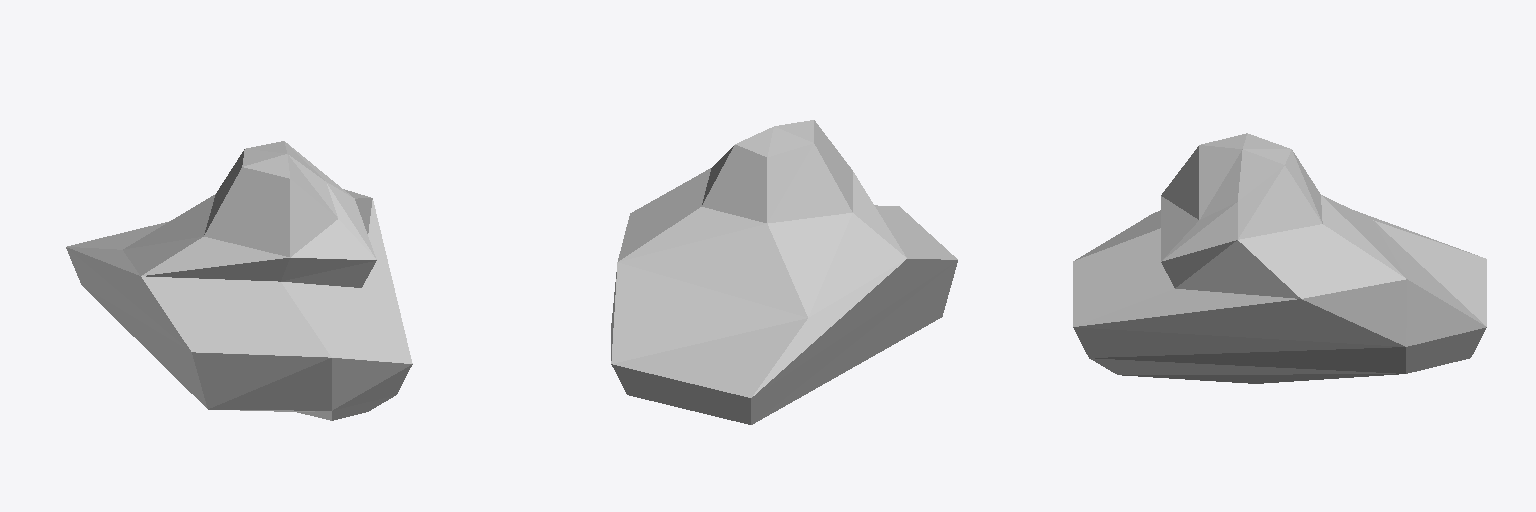
Rendered from rock2.obj.
The picture shows the model from 3 angles: view 1: azimuth 30°, elevation 25°; view 2: azimuth 150°, elevation 25°; view 3: azimuth 270°, elevation 25°; orthographic projection.
Visible parts, largest first — view 1: pasted__pasted__pSphere5 pasted__group63 group67; view 2: pasted__pasted__pSphere5 pasted__group63 group67; view 3: pasted__pasted__pSphere5 pasted__group63 group67.
Part boxes in pixels (bbox=[...]): pasted__pasted__pSphere5 pasted__group63 group67: bbox=[66, 141, 412, 420]; pasted__pasted__pSphere5 pasted__group63 group67: bbox=[611, 120, 957, 424]; pasted__pasted__pSphere5 pasted__group63 group67: bbox=[1073, 133, 1486, 383].
Bounding box in the file's own units: 3.07 × 2.6 × 4.32.